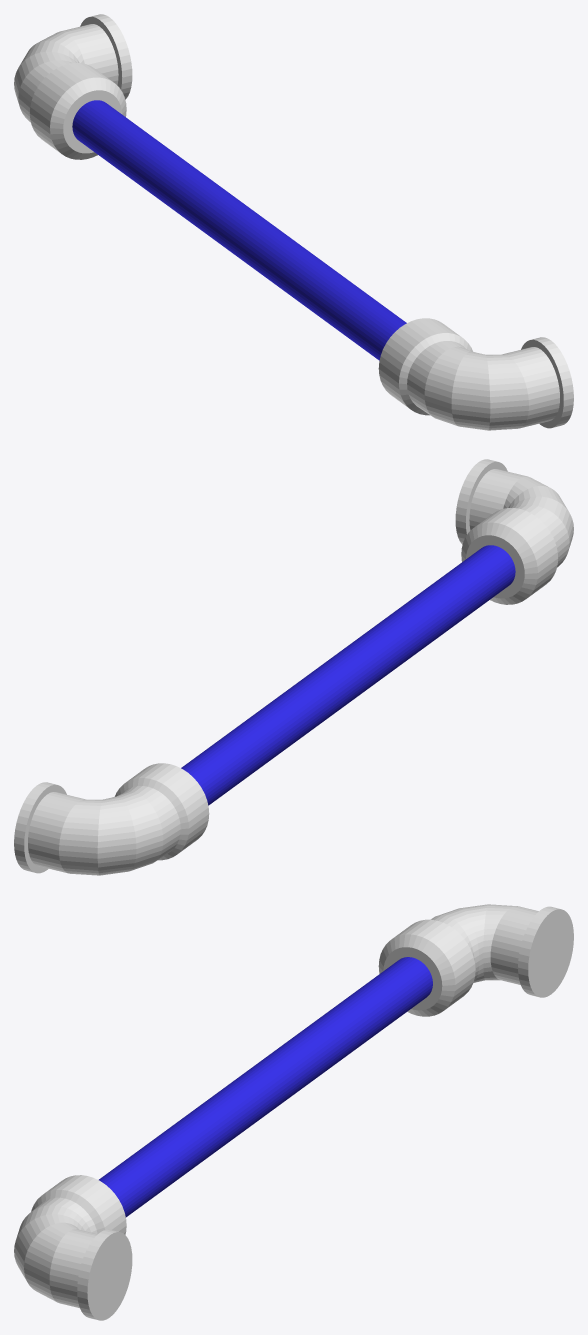
Rendered from WallLight.fbx.
The picture shows the model from 3 angles, top to bottom: view 1: azimuth 30°, elevation 25°; view 2: azimuth 150°, elevation 25°; view 3: azimuth 330°, elevation 25°; orthographic projection.
Visible parts, largest first — view 1: Cylinder.001; view 2: Cylinder.001; view 3: Cylinder.001.
Boxes of the visible parts, x1,y1,x2,y2 form: Cylinder.001: [14, 14, 573, 430]; Cylinder.001: [14, 459, 573, 875]; Cylinder.001: [14, 904, 573, 1320].
Size of the model in its own units: 576 by 389 by 4168.
